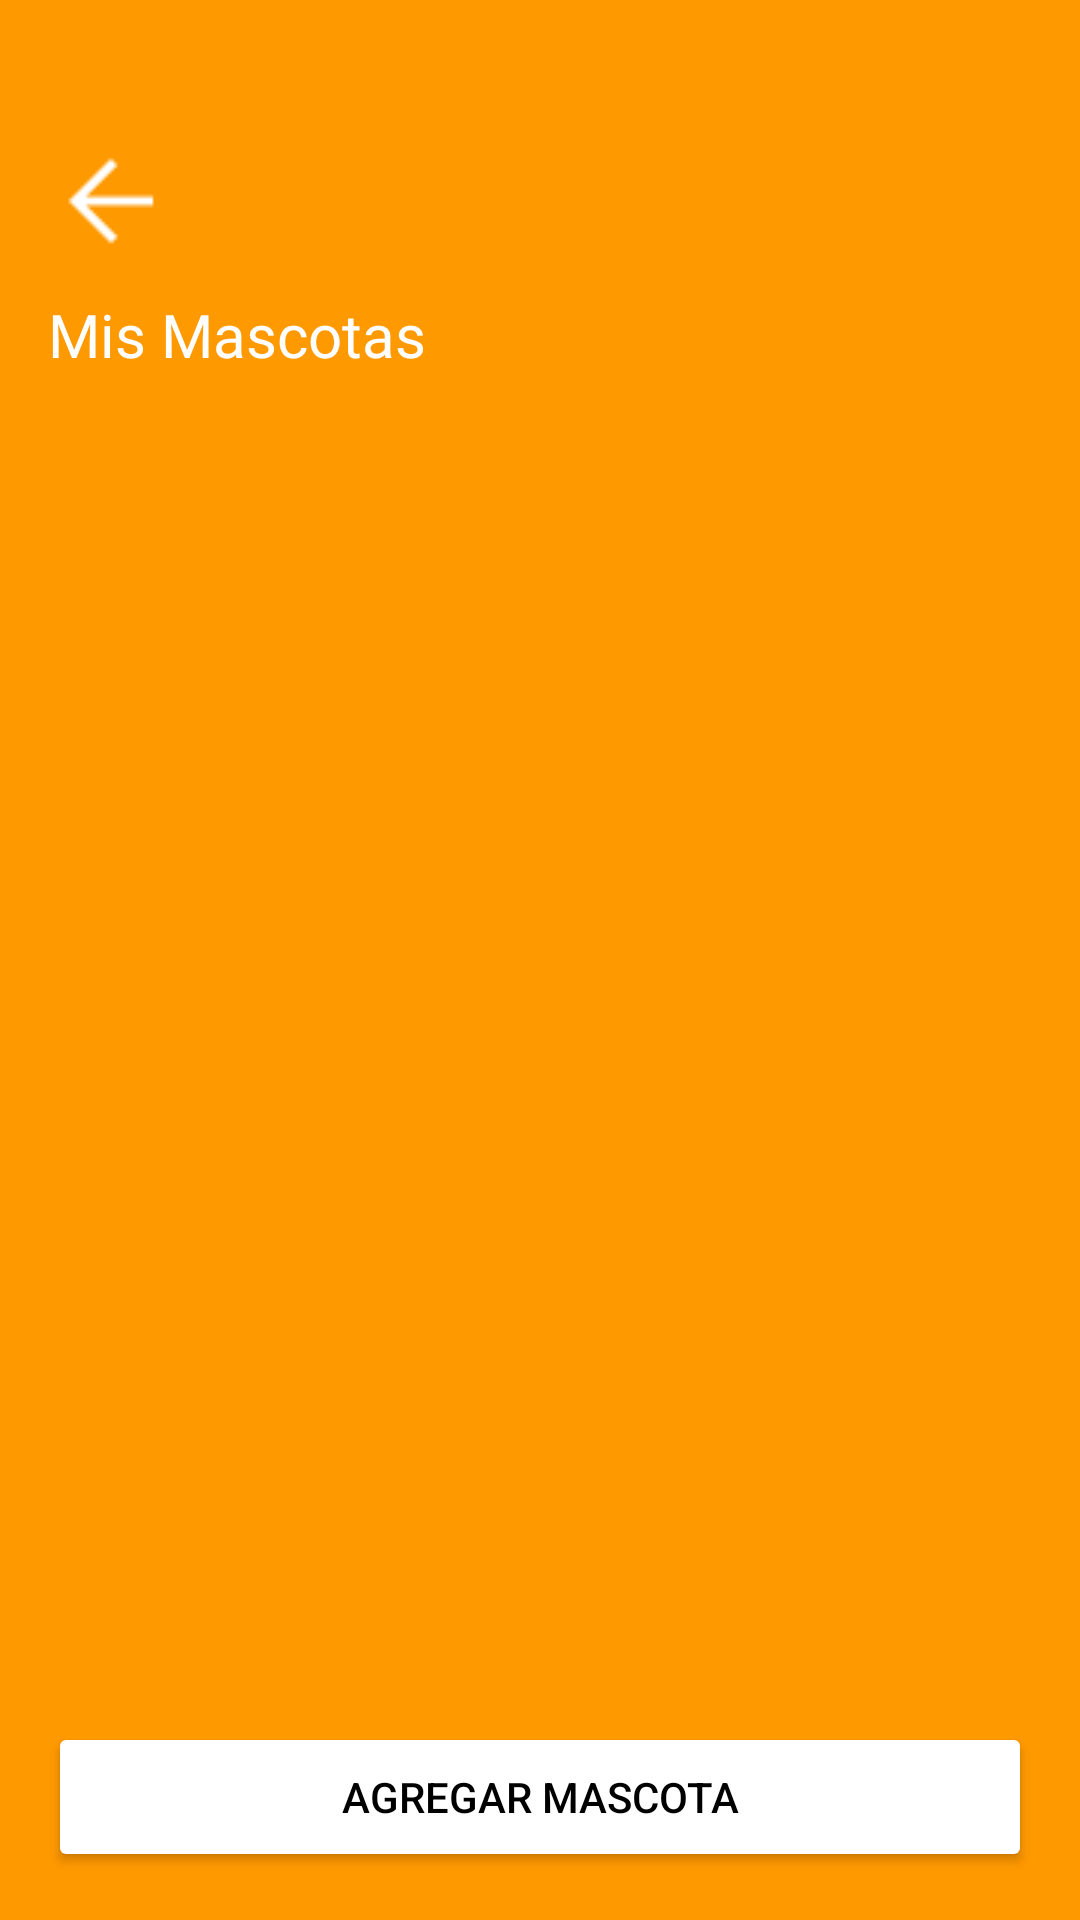

Icon click points for this 1080x1920 phone screenshot, format (x,y):
atras blanco: (111,201)
